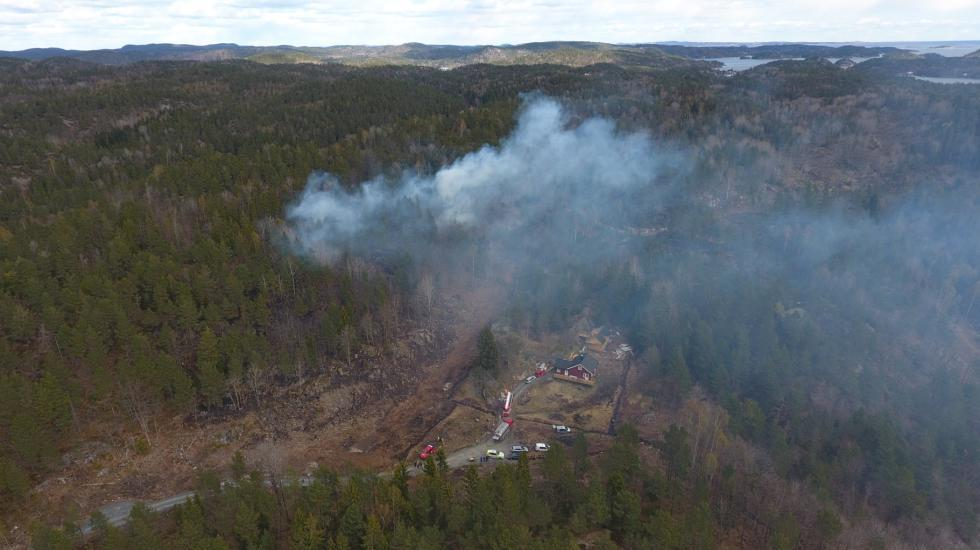smoke: (269, 90, 681, 257)
